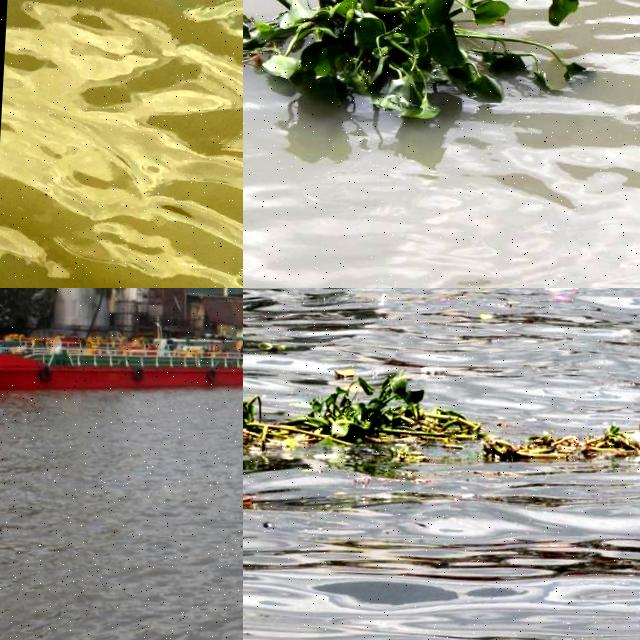water-hyacinth: (244, 365, 640, 481), (244, 1, 617, 124)
